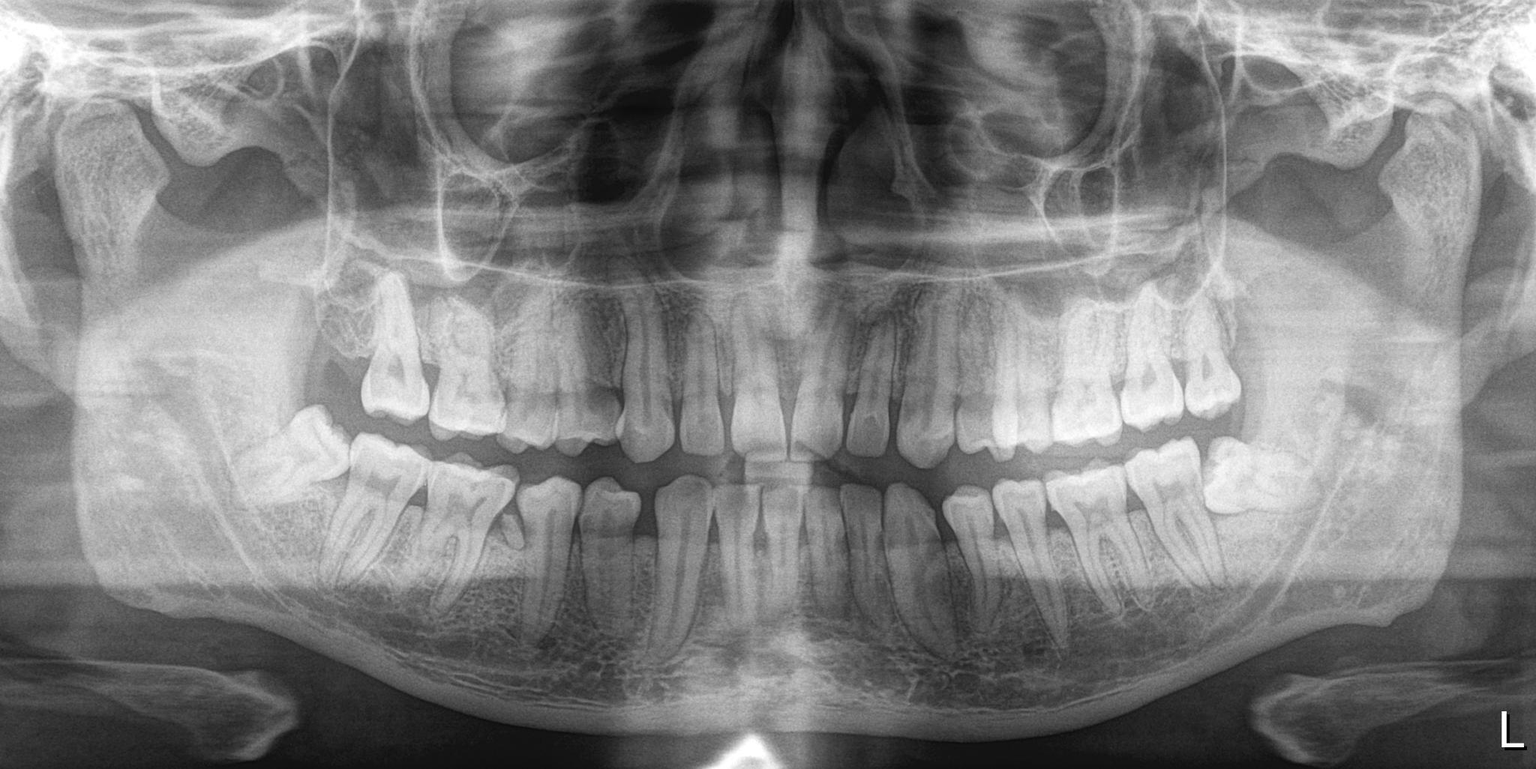Dental Caries: (1196, 350, 1222, 391), (1134, 360, 1157, 394)
Impacted Third Molar: (225, 411, 341, 505), (1198, 444, 1322, 517)
Retained Root: (492, 513, 524, 555)
